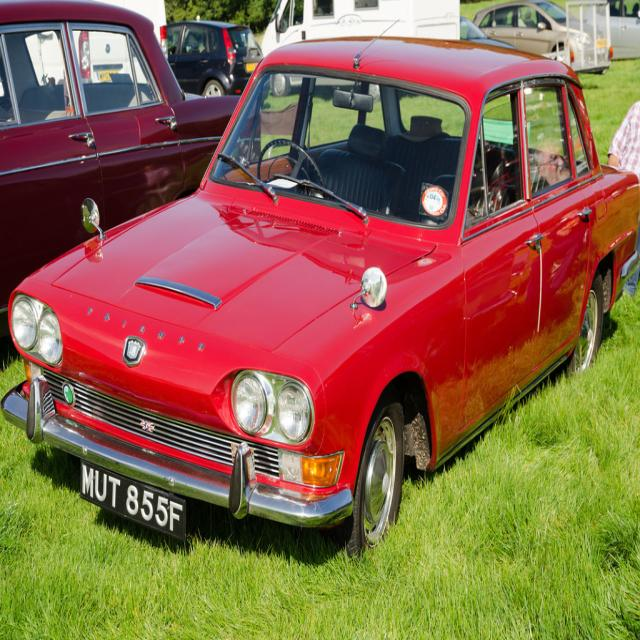car: (2, 26, 638, 558)
